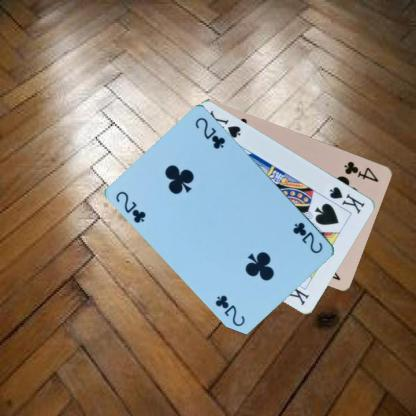2c: (113, 188, 148, 225), (291, 219, 324, 254)
4c: (342, 158, 380, 183)
Ks: (327, 184, 366, 216)
